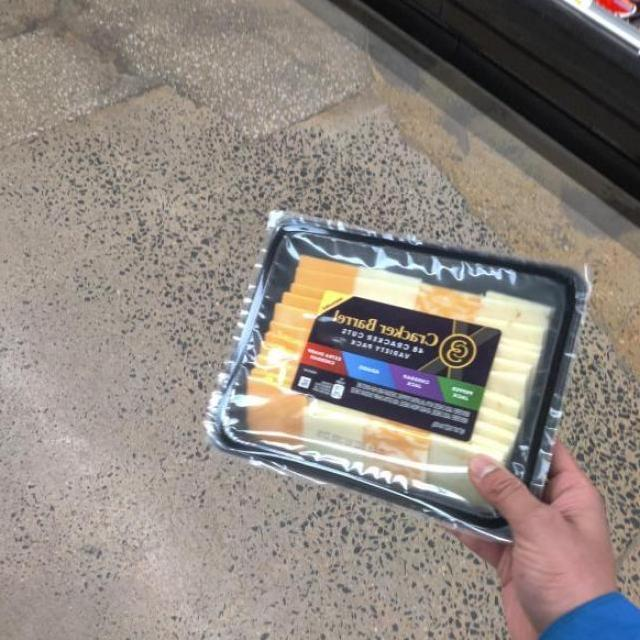Cheese: (162, 194, 602, 545)
